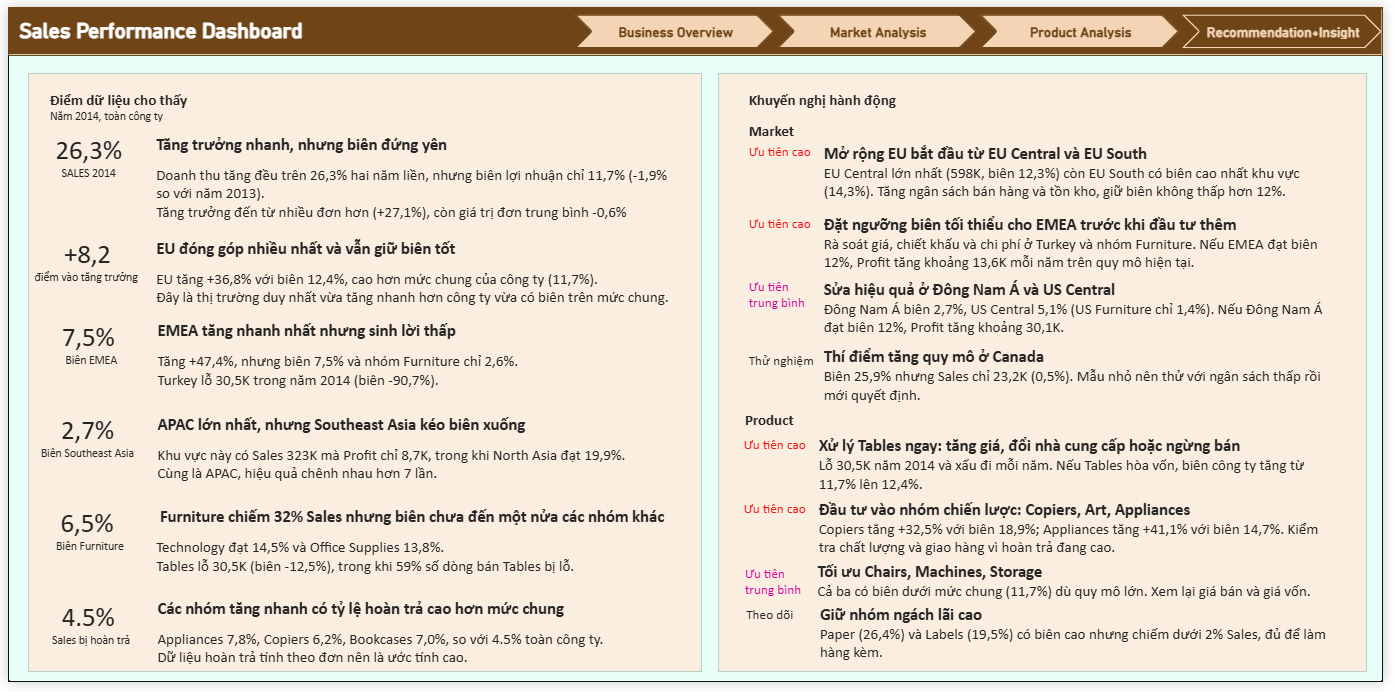

The page's visual inventory and layout, read from the dashboard file:
{"tool":"powerbi","page":{"name":"Recommendation+Insight","canvas":[2200,1080],"ordinal":3},"visuals":[{"type":"shape","box":[0,0,2200,78],"z":0,"group":"g1"},{"type":"shape","box":[32,106,1078,958],"z":0,"group":"g2"},{"type":"shape","box":[1136,106,1038,958],"z":0},{"type":"group","id":"g1","title":"Heding","box":[0,0,2200,78],"z":1000},{"type":"pageNavigator","box":[906,12,1294,54],"z":1000,"group":"g1"},{"type":"textbox","box":[62,128,266,70],"z":1000,"group":"g2"},{"type":"textbox","box":[18,18,572,40],"z":2000,"group":"g1"},{"type":"textbox","box":[1180,128,266,50],"z":2000},{"type":"textbox","box":[28,198,202,102],"z":2000,"group":"g2"},{"type":"textbox","box":[1180,214,120,42],"z":2000,"group":"g4"},{"type":"textbox","box":[1172,682,120,42],"z":2000,"group":"g5"},{"type":"textbox","box":[1172,784,120,42],"z":2000,"group":"g6"},{"type":"textbox","box":[1174,888,120,74],"z":2000,"group":"g7"},{"type":"textbox","box":[1176,953,120,111],"z":2000,"group":"g3"},{"type":"group","id":"g2","title":"Group 1","box":[28,106,1082,966],"z":3000},{"type":"textbox","box":[232,198,842,172],"z":3000,"group":"g2"},{"type":"textbox","box":[1300,212,842,114],"z":3000,"group":"g4"},{"type":"textbox","box":[1292,680,842,114],"z":3000,"group":"g5"},{"type":"textbox","box":[1292,782,842,114],"z":3000,"group":"g6"},{"type":"textbox","box":[1290,882,842,80],"z":3000,"group":"g7"},{"type":"textbox","box":[1294,950,854,107.4],"z":3000,"group":"g3"},{"type":"group","id":"g3","title":"Group 4","box":[1176,950,972,114],"z":3014,"group":"g8"},{"type":"textbox","box":[1180,178,134,48],"z":4000},{"type":"textbox","box":[36,364,182,102],"z":4000,"group":"g2"},{"type":"textbox","box":[1180,328,120,42],"z":5000},{"type":"textbox","box":[35.2,496.2,194,102],"z":5000,"group":"g2"},{"type":"textbox","box":[1180,430,120,70],"z":6000},{"type":"textbox","box":[35.2,645.4,182,102],"z":6000,"group":"g2"},{"type":"textbox","box":[1180,548,120,66],"z":7000},{"type":"textbox","box":[30,794,202,102],"z":7000,"group":"g2"},{"type":"textbox","box":[1300,326,842,112],"z":8000},{"type":"textbox","box":[36,944,194,102],"z":8000,"group":"g2"},{"type":"textbox","box":[232,364,876,132],"z":9000,"group":"g2"},{"type":"textbox","box":[1300,430,842,104],"z":9000},{"type":"textbox","box":[234,496,876,132],"z":10000,"group":"g2"},{"type":"textbox","box":[1300,538,842,102],"z":10000},{"type":"textbox","box":[1174,640,134,48],"z":11000},{"type":"textbox","box":[234,646,876,132],"z":11000,"group":"g2"},{"type":"group","id":"g4","title":"Group 2","box":[1180,212,962,114],"z":12000},{"type":"textbox","box":[232,794,876,132],"z":12000,"group":"g2"},{"type":"group","id":"g5","title":"Group 2","box":[1172,680,962,114],"z":13000},{"type":"textbox","box":[234,940,876,132],"z":13000,"group":"g2"},{"type":"group","id":"g6","title":"Group 2","box":[1172,782,962,114],"z":14000},{"type":"group","id":"g7","title":"Group 3","box":[1174,882,958,80],"z":15000},{"type":"group","id":"g8","title":"Group 3","box":[1176,950,972,114],"z":16000}]}

Visuals, with their boxes in screenshot pixels (x1, y1, x2, y2), scaled from the page's 2200x1080 canvas onto the 1395x692 screenshot:
shape: [0,0,1394,50]
shape: [20,68,704,682]
shape: [720,68,1379,682]
"Heding" group: [0,0,1394,50]
pageNavigator: [574,8,1394,42]
textbox: [39,82,208,127]
textbox: [11,12,374,37]
textbox: [748,82,917,114]
textbox: [18,127,146,192]
textbox: [748,137,824,164]
textbox: [743,437,819,464]
textbox: [743,502,819,529]
textbox: [744,569,821,616]
textbox: [746,611,822,682]
"Group 1" group: [18,68,704,687]
textbox: [147,127,681,237]
textbox: [824,136,1358,209]
textbox: [819,436,1353,509]
textbox: [819,501,1353,574]
textbox: [818,565,1352,616]
textbox: [821,609,1362,678]
"Group 4" group: [746,609,1362,682]
textbox: [748,114,833,145]
textbox: [23,233,138,299]
textbox: [748,210,824,237]
textbox: [22,318,145,383]
textbox: [748,276,824,320]
textbox: [22,414,138,479]
textbox: [748,351,824,393]
textbox: [19,509,147,574]
textbox: [824,209,1358,281]
textbox: [23,605,146,670]
textbox: [147,233,703,318]
textbox: [824,276,1358,342]
textbox: [148,318,704,402]
textbox: [824,345,1358,410]
textbox: [744,410,829,441]
textbox: [148,414,704,498]
"Group 2" group: [748,136,1358,209]
textbox: [147,509,703,593]
"Group 2" group: [743,436,1353,509]
textbox: [148,602,704,687]
"Group 2" group: [743,501,1353,574]
"Group 3" group: [744,565,1352,616]
"Group 3" group: [746,609,1362,682]
